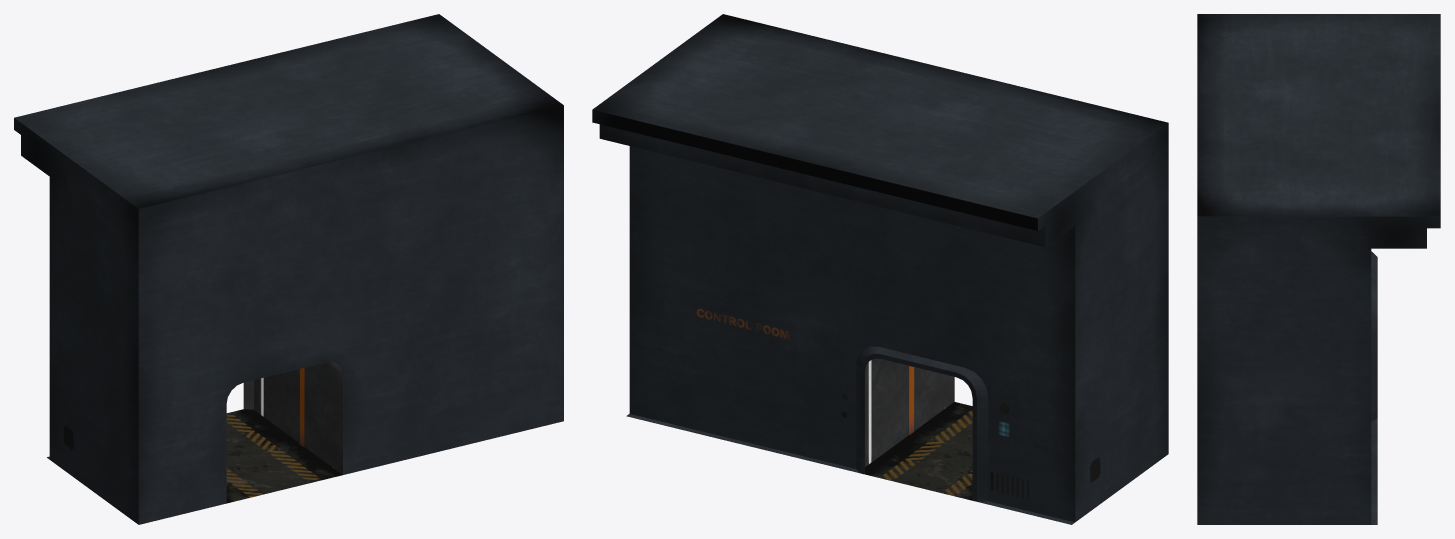
Rendered from scifi_building_entrance.glb.
The picture shows the model from 3 angles, left to right: view 1: azimuth 30°, elevation 25°; view 2: azimuth 150°, elevation 25°; view 3: azimuth 270°, elevation 25°; orthographic projection. The views are drawn at different scales.
Parts seen in each view (by area): view 1: small door entrance 1; view 2: small door entrance 1; view 3: small door entrance 1.
Boxes of the visible parts, x1=… form: small door entrance 1: x1=14, y1=14, x2=563, y2=524; small door entrance 1: x1=592, y1=14, x2=1168, y2=524; small door entrance 1: x1=1197, y1=14, x2=1440, y2=524.
Size of the model in its own units: 16.9 by 12 by 8.58.
1 material, 1 textured.
